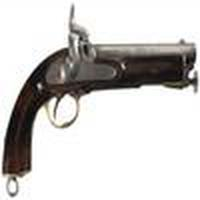gun: (1, 41, 200, 172)
